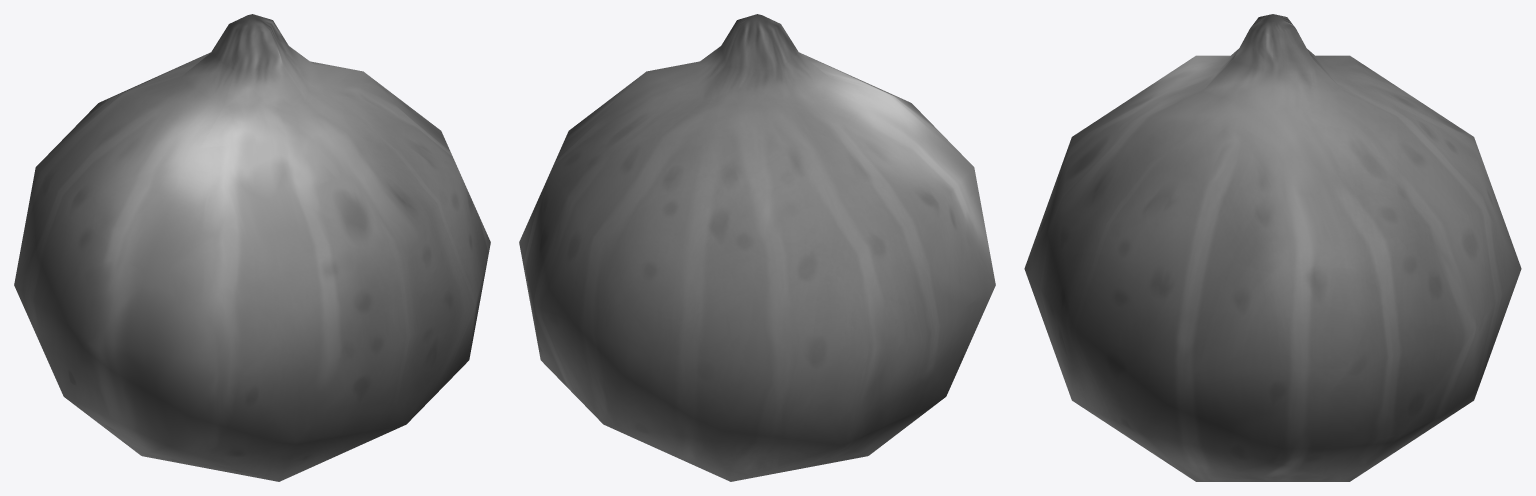
The model's file is Onion01.fbx.
The picture shows the model from 3 angles, left to right: view 1: azimuth 30°, elevation 25°; view 2: azimuth 150°, elevation 25°; view 3: azimuth 270°, elevation 25°; orthographic projection.
Visible parts, largest first — view 1: Onion01_LOD0; view 2: Onion01_LOD0; view 3: Onion01_LOD0.
Boxes of the visible parts, box(x1,y1,x2,y2) form: Onion01_LOD0: box(14, 14, 490, 481); Onion01_LOD0: box(519, 14, 995, 481); Onion01_LOD0: box(1024, 14, 1521, 481).
Size of what is drawn, in the model's own units: 16.98 by 18.13 by 17.85.
